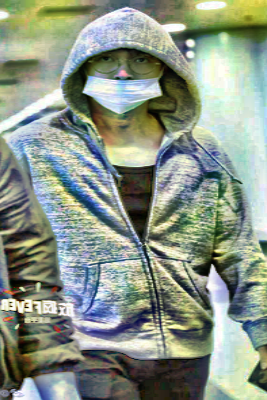mask_weared_incorrect: (81, 50, 166, 114)
